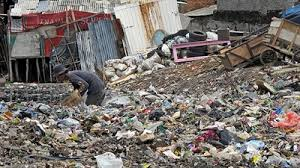garbage: (2, 104, 300, 166), (163, 70, 300, 166), (109, 58, 220, 168)
